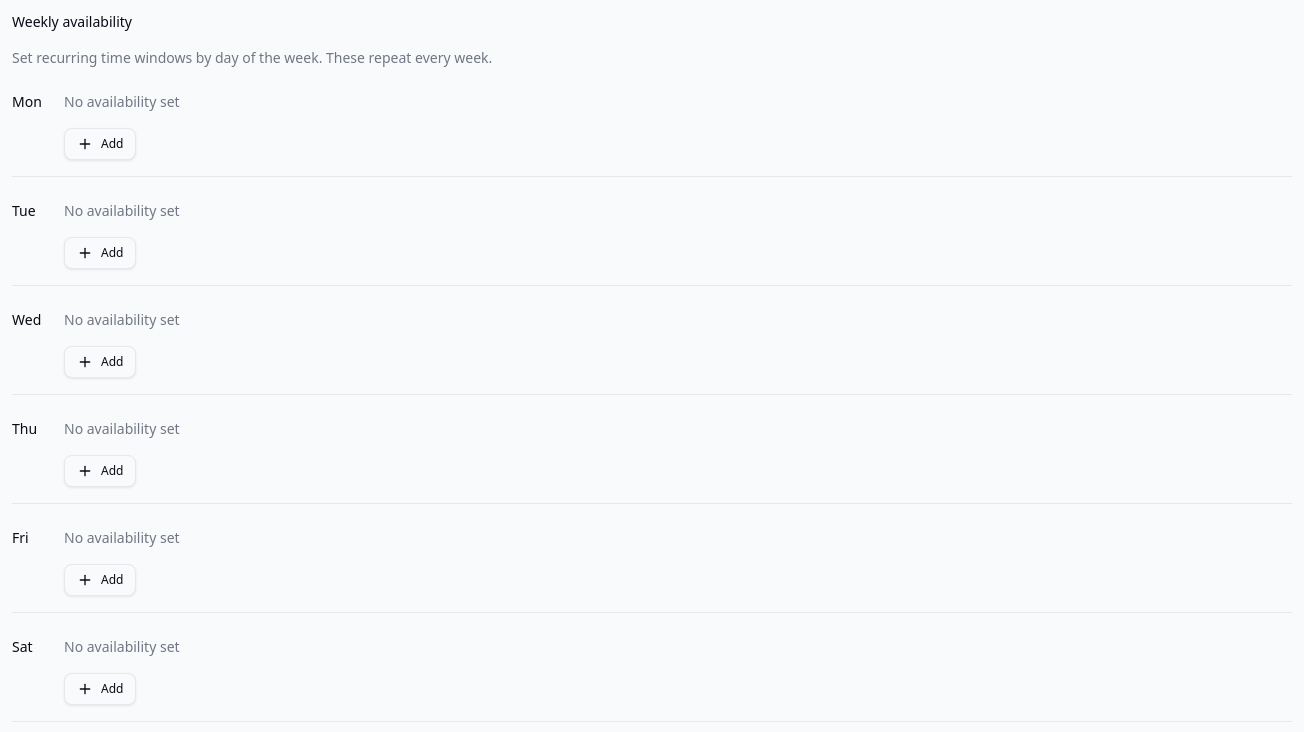
Test case: AvailabilityEditor › weekly pattern › removes a weekly range when Remove button is clicked
// Add a Monday range
Click the button "Add" below "Mon" at (100, 144), box [64, 128, 136, 160]
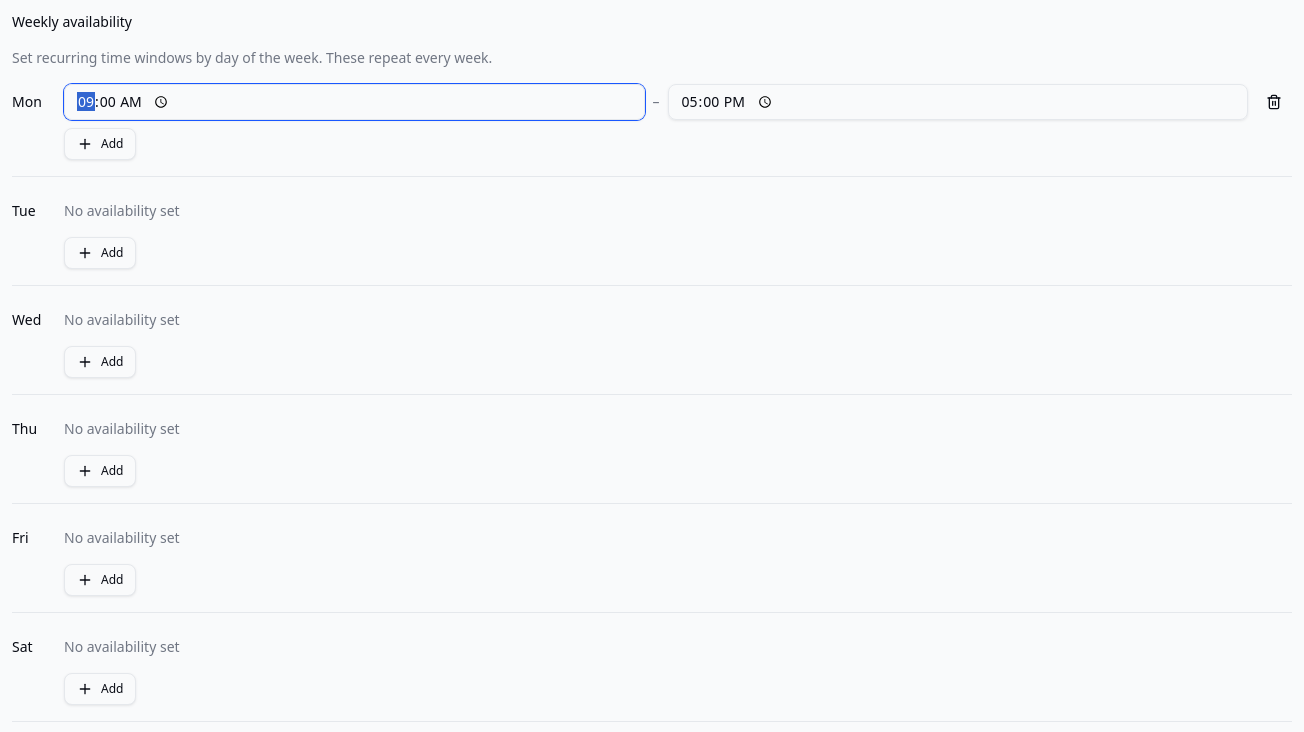
Check: the time field named "monday window 1 start time" is shown, box [64, 84, 644, 120]
Click the button named "remove monday window 1" at (1274, 102), box [1256, 84, 1292, 120]
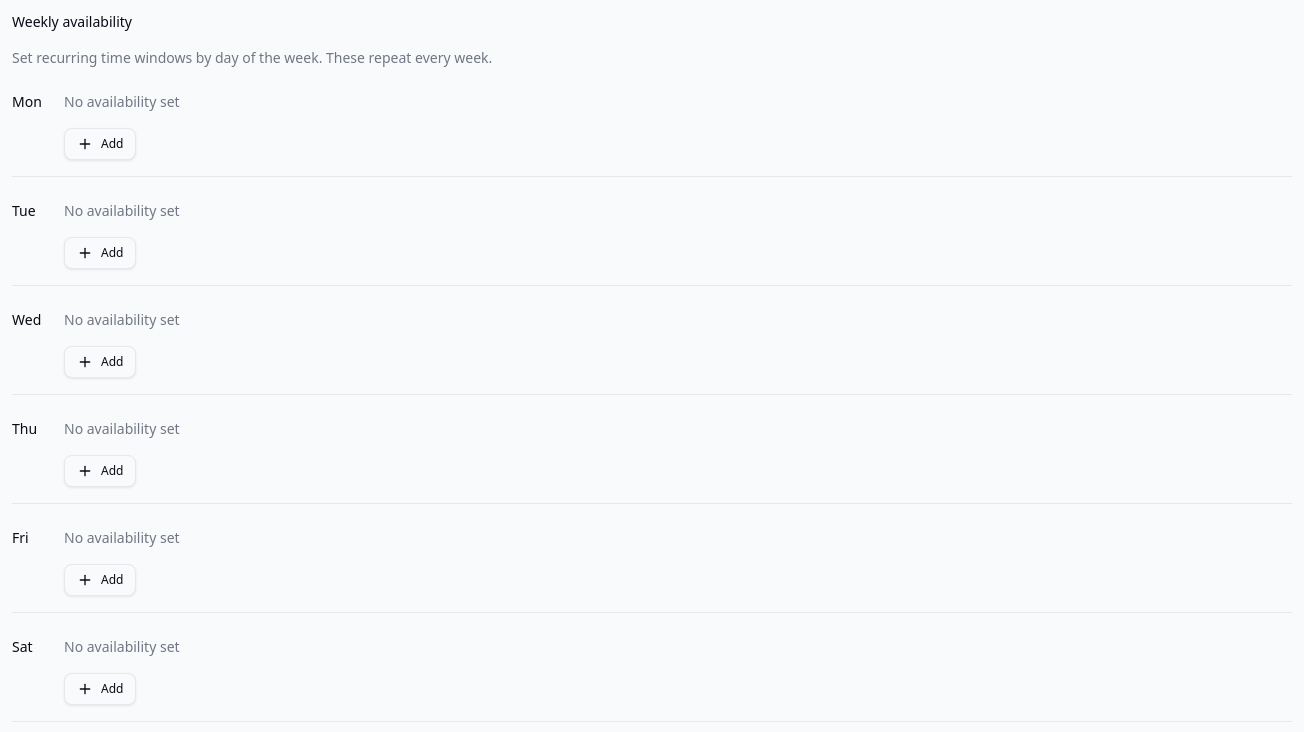
Check: the time field labelled "monday window 1 start time" is gone
